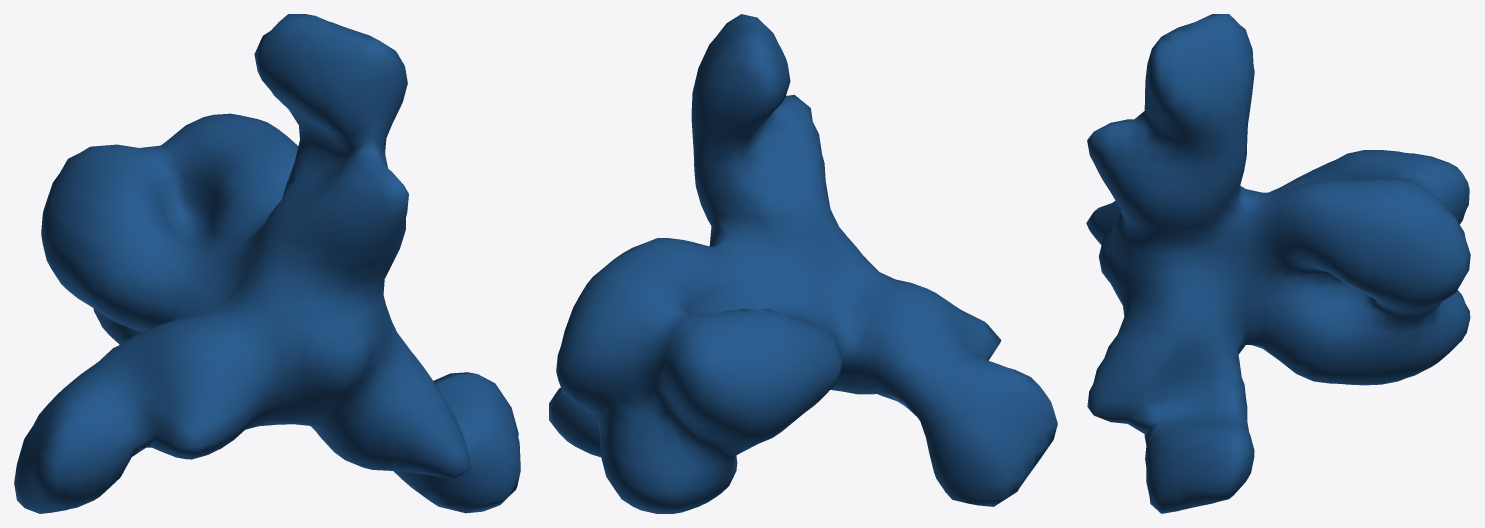
Rendered from 3DPX-000725.glb.
3 renders of one model, left to right at view 1: azimuth 30°, elevation 25°; view 2: azimuth 150°, elevation 25°; view 3: azimuth 270°, elevation 25°, orthographic. The views are drawn at different scales.
Visible parts, largest first — view 1: surface; view 2: surface; view 3: surface.
Part boxes in pixels (x1,y1,x2,y2): surface: (14,14,520,513); surface: (549,14,1057,513); surface: (1086,14,1470,513).
Bounding box in the file's own units: 180 × 173 × 140.
